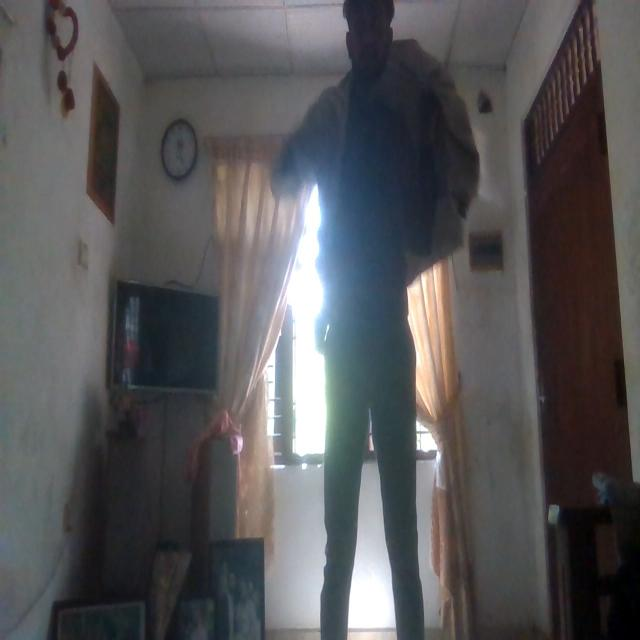Jacket_Wearer: (278, 73, 471, 297)
Person: (284, 2, 454, 640)
